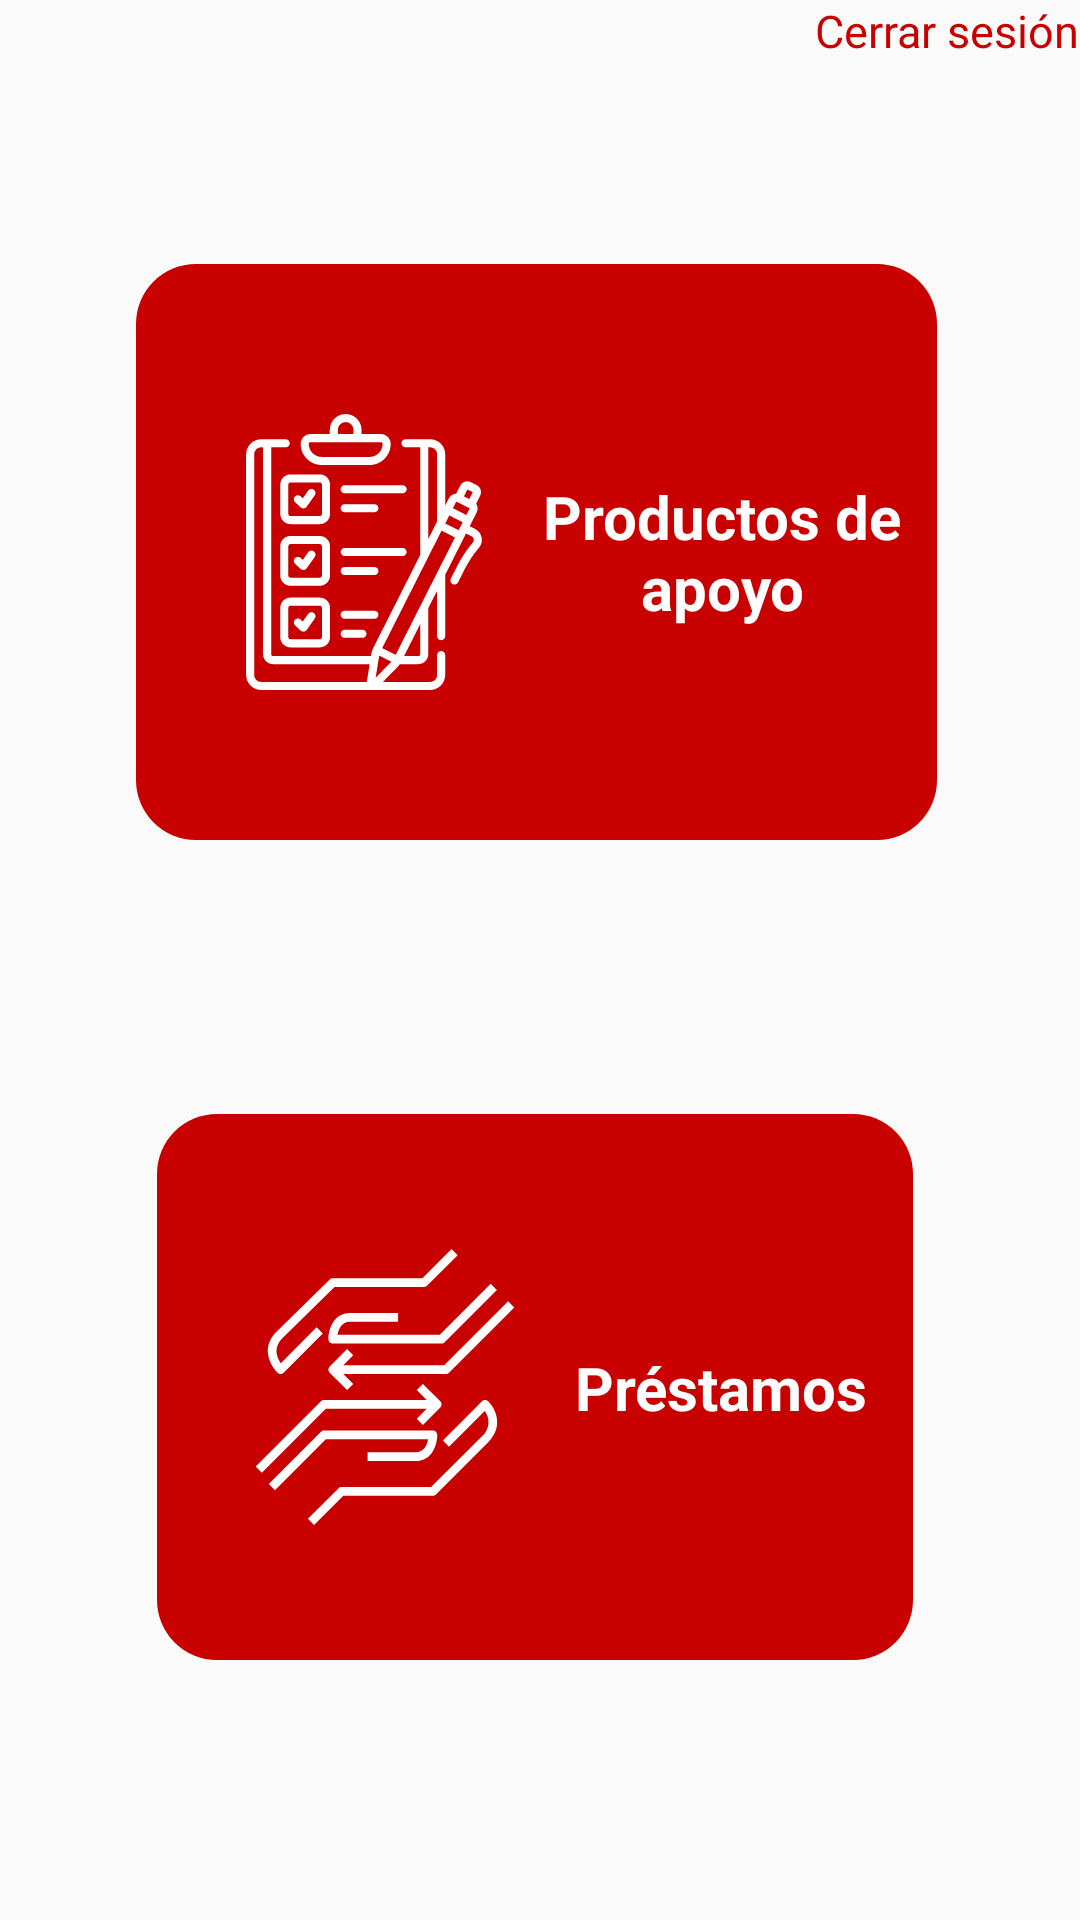

Screen size 1080×1920. Icon name, then its center in pixels as (x=x, y=y):
check: (x=364, y=552)
